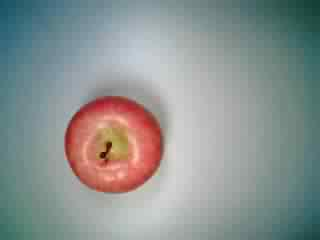apple: (62, 90, 166, 194)
